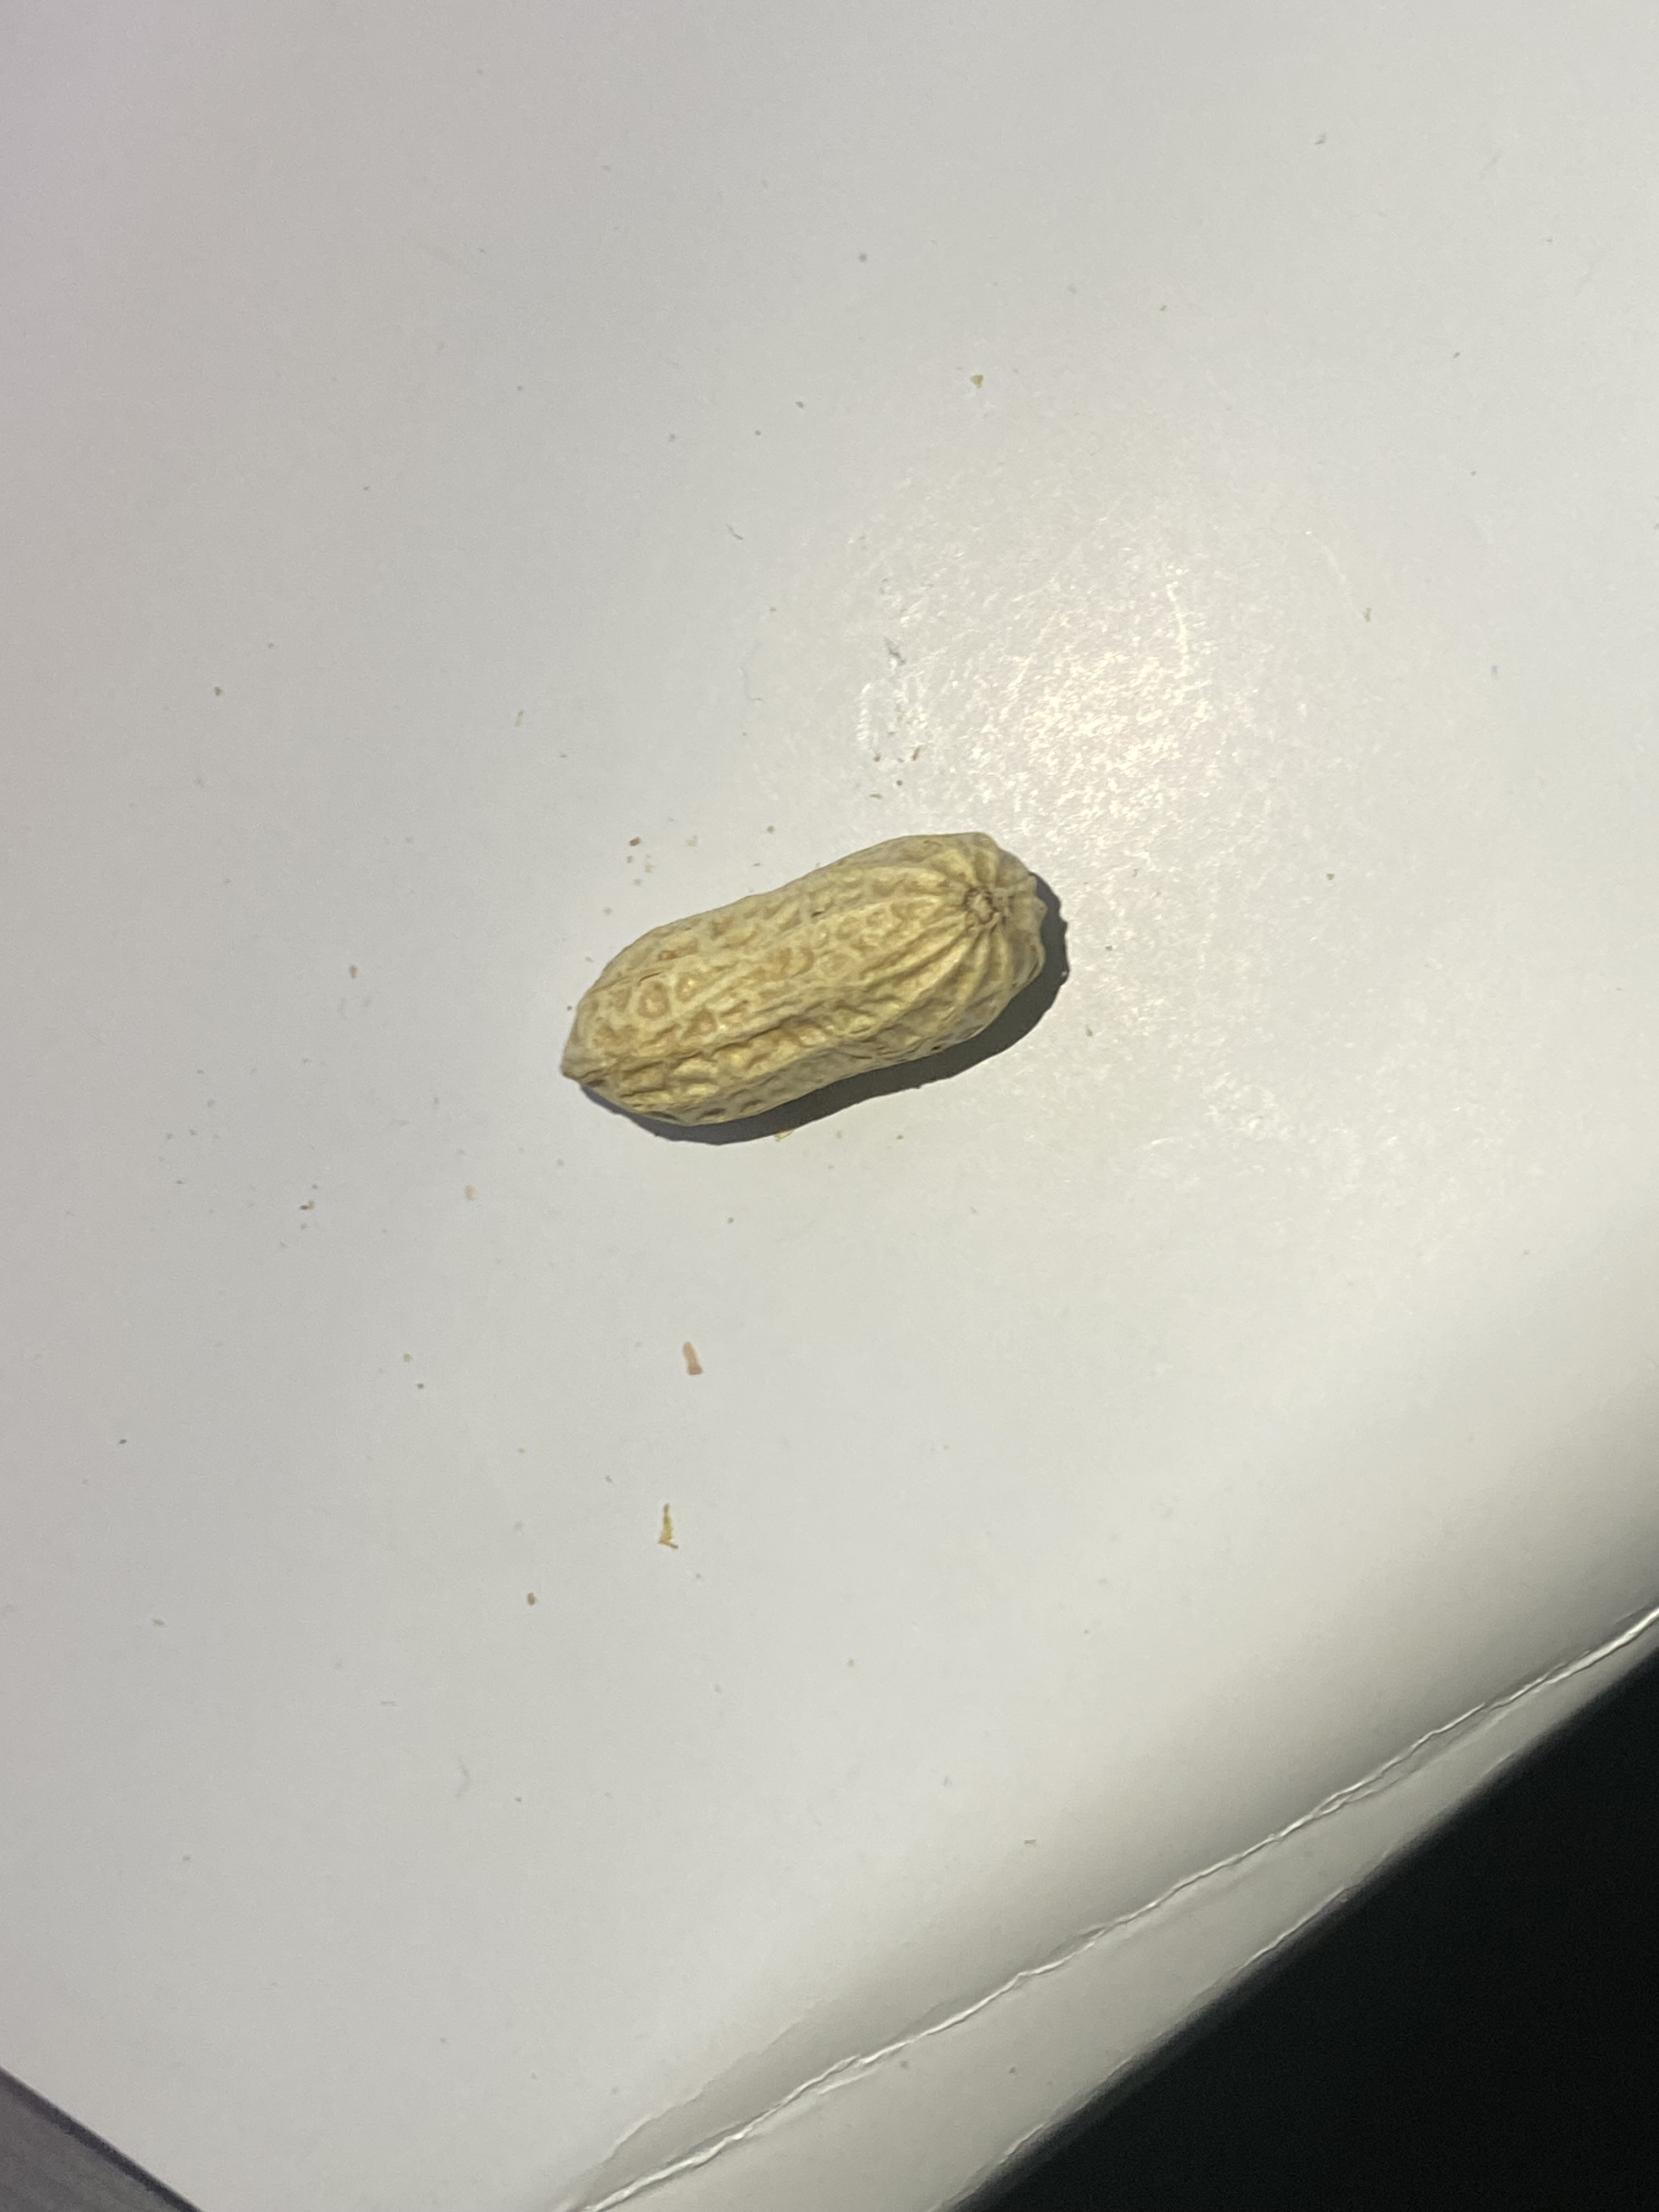kacang2: (526, 798, 1164, 1144)
